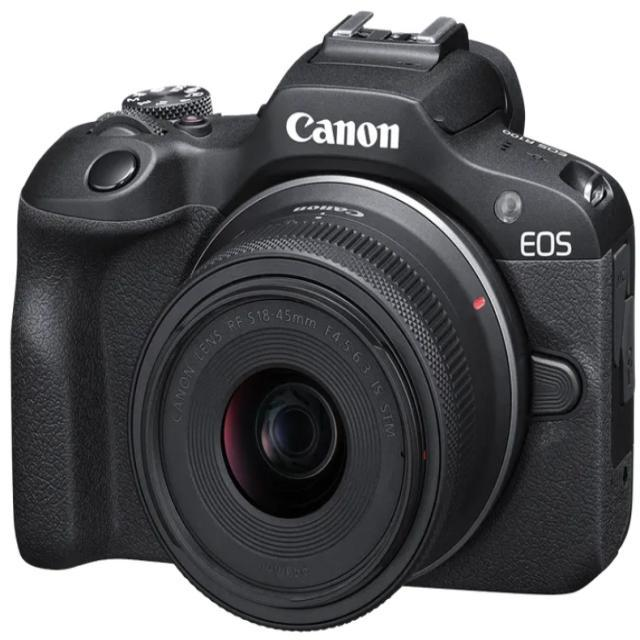hidden camera: (136, 272, 452, 610)
